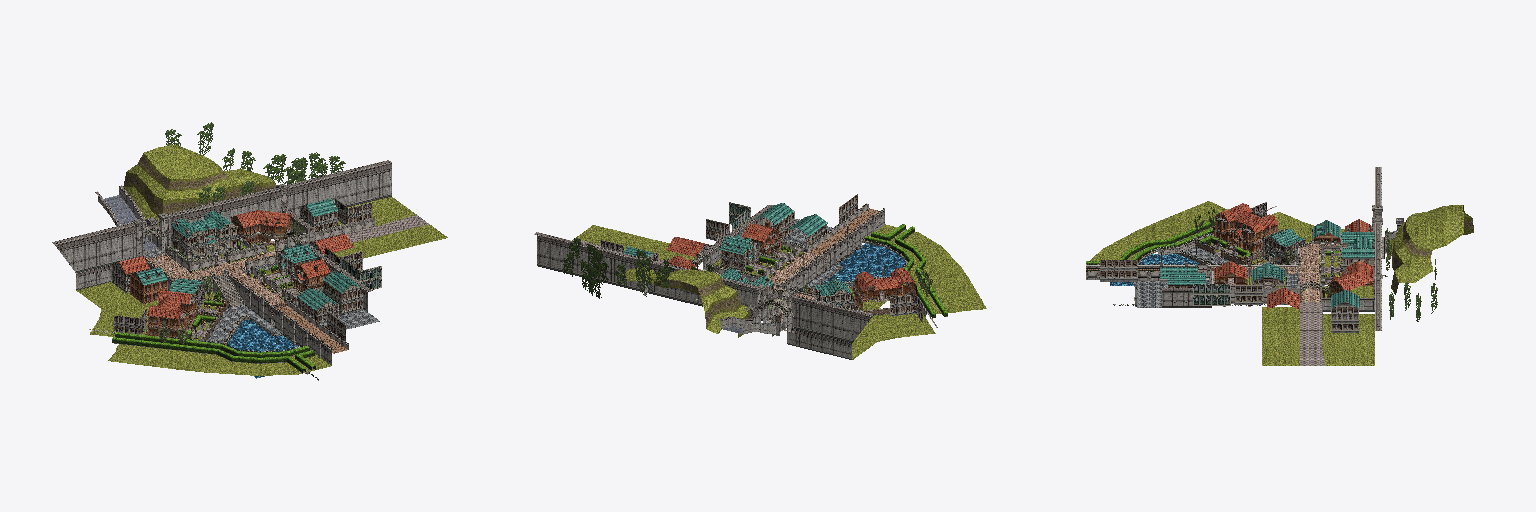
3 views of the same model, side by side, from view 1: azimuth 30°, elevation 25°; view 2: azimuth 150°, elevation 25°; view 3: azimuth 270°, elevation 25° (orthographic).
Visible parts, largest first — view 1: Object.54, Object.98, Object.102, Object.1, Object.106, Object.60, Object.140, Object.101, Object.150, Object.341, Object.330, Object.57 (+21 smaller); view 2: Object.44, Object.98, Object.60, Object.101, Object.90, Object.102, Object.54, Object.1, Object.344, Object.330, Object.82, Object.57 (+8 smaller); view 3: Object.106, Object.86, Object.98, Object.93, Object.146, Object.191, Object.140, Object.150, Object.236, Object.101, Object.148, Object.68 (+8 smaller).
Boxes of the visible parts, x1,y1,x2,y2 form: Object.54: [302, 161, 391, 206]; Object.98: [108, 347, 211, 371]; Object.102: [124, 147, 182, 213]; Object.1: [123, 153, 184, 215]; Object.106: [159, 144, 218, 178]; Object.60: [52, 223, 178, 272]; Object.140: [130, 273, 195, 338]; Object.101: [206, 357, 298, 375]; Object.150: [300, 199, 371, 231]; Object.341: [228, 319, 279, 350]; Object.330: [263, 152, 325, 184]; Object.57: [229, 163, 391, 318]; Object.44: [768, 296, 830, 354]; Object.98: [921, 267, 986, 310]; Object.60: [747, 300, 873, 342]; Object.101: [901, 233, 960, 270]; Object.90: [852, 325, 922, 350]; Object.102: [682, 272, 736, 333]; Object.54: [538, 235, 623, 286]; Object.1: [697, 277, 741, 328]; Object.344: [852, 246, 905, 272]; Object.330: [562, 248, 608, 298]; Object.82: [885, 299, 962, 334]; Object.57: [537, 235, 817, 289]; Object.106: [1406, 211, 1463, 249]; Object.86: [1262, 323, 1373, 364]; Object.98: [1138, 201, 1224, 237]; Object.93: [1322, 323, 1374, 364]; Object.146: [1100, 238, 1278, 281]; Object.191: [1193, 284, 1230, 305]; Object.140: [1214, 214, 1340, 251]; Object.150: [1331, 302, 1358, 332]; Object.236: [1220, 203, 1274, 241]; Object.101: [1090, 231, 1155, 260]; Object.148: [1235, 274, 1287, 304]; Object.68: [1300, 323, 1324, 364].
Size of the model in its own units: 135 by 42.32 by 124.
Materials: 23 (23 with a texture image).